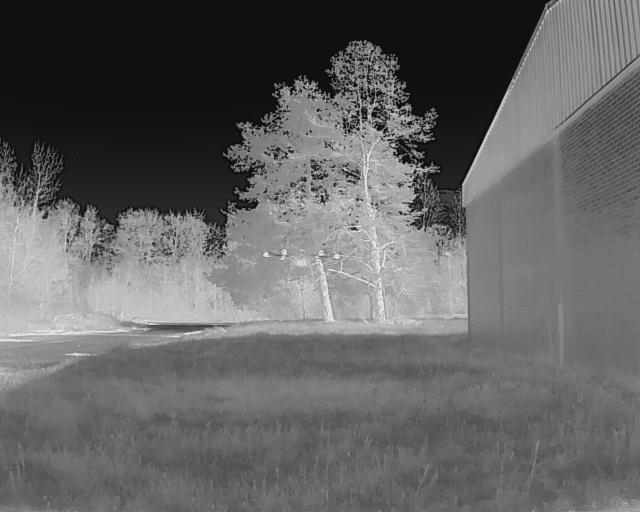drone: (260, 241, 343, 296)
